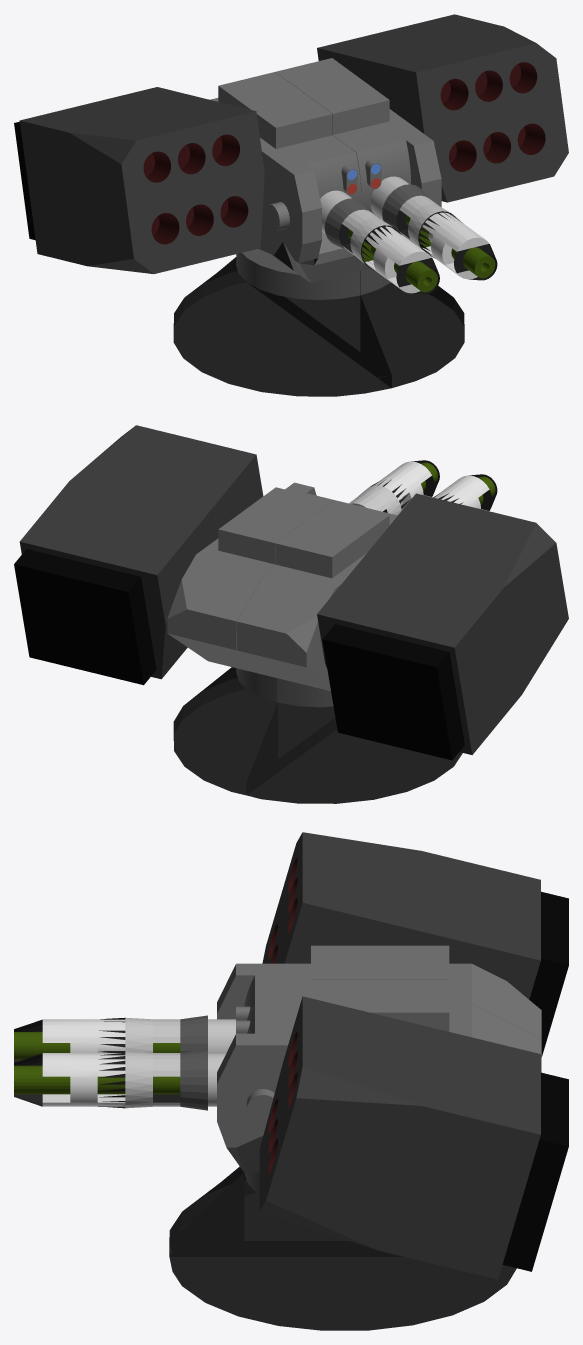
File: missile launcher.fbx
3 renders of one model, top to bottom at view 1: azimuth 30°, elevation 25°; view 2: azimuth 150°, elevation 25°; view 3: azimuth 270°, elevation 25°, orthographic. The views are drawn at different scales.
Visible parts, largest first — view 1: Group_003, Group_001; view 2: Group_003, Group_001; view 3: Group_001, Group_003.
Part boxes in pixels (box(x1,y1,x2,y2)): Group_003: box(14, 72, 439, 396); Group_001: box(275, 14, 568, 387); Group_003: box(237, 474, 568, 803); Group_001: box(14, 425, 439, 795); Group_001: box(14, 979, 568, 1330); Group_003: box(14, 832, 568, 1240).
Size of the model in its own units: 129 by 72.67 by 119.
